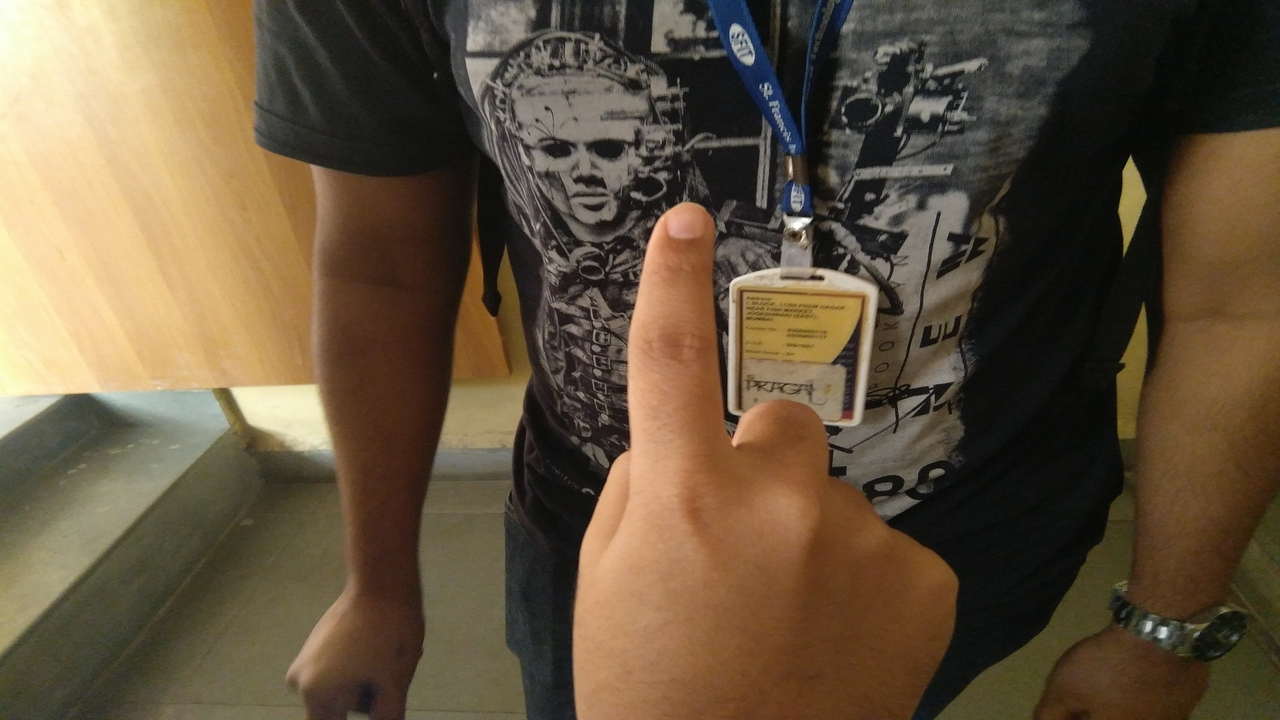fingertip: (650, 200, 714, 262)
